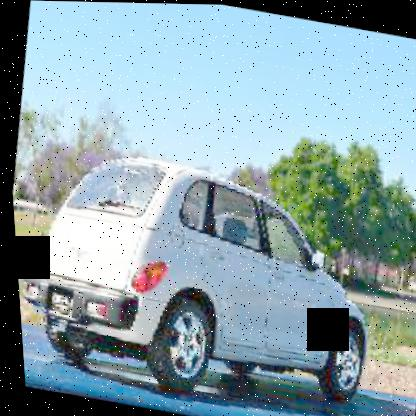not_emergency: (6, 118, 402, 415)
